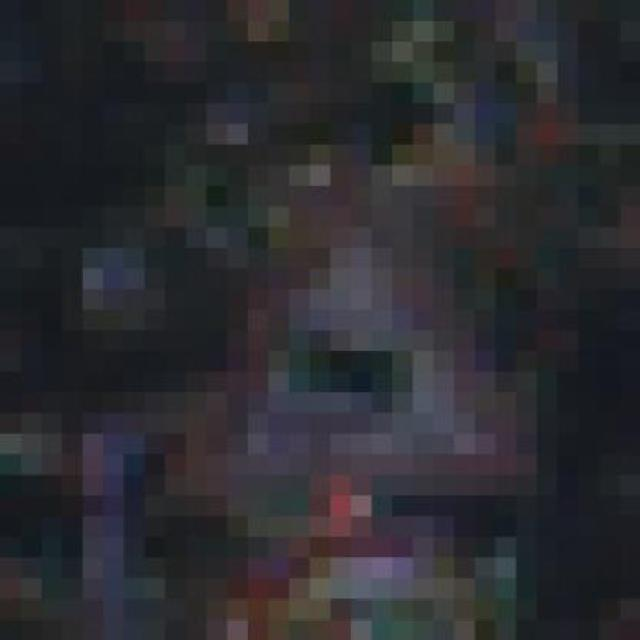Slippery Road Ahead: (123, 145, 537, 537)
